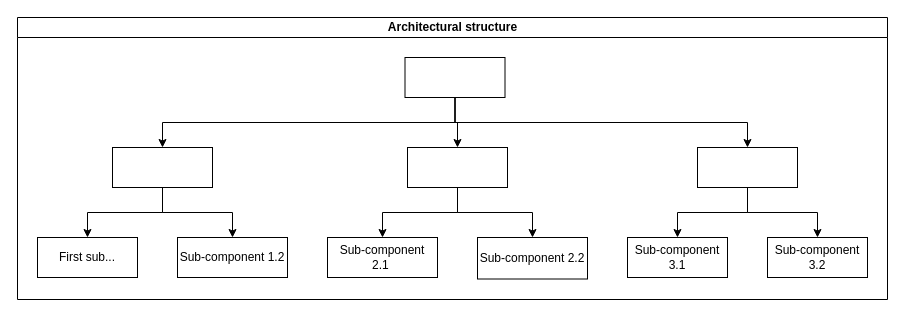
Image size: 905x317. Some labels were removed from this diagram. The shapes that lost their labels are listed below. From the top down, each one's centre as x and y in pixels, then its label:
At point (454, 77): "Hradware".
At point (162, 167): "Component 1".
At point (457, 167): "Component 2".
At point (747, 167): "Component 3".
